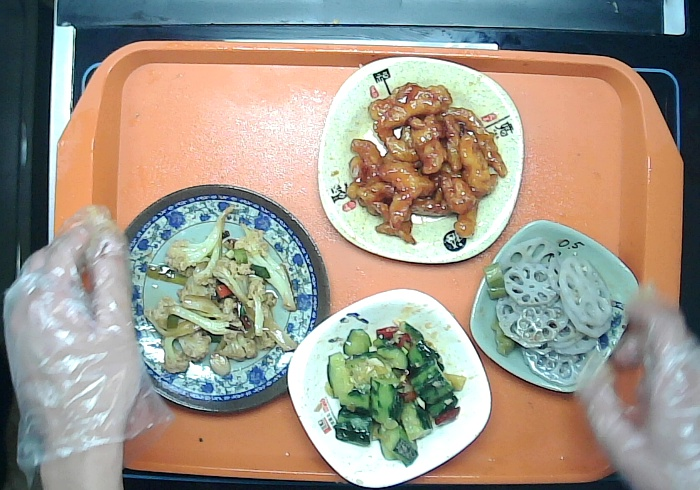NLDX-Bai_Se_Xiao_Fang_Die: (288, 288, 493, 487)
NLDX-Fu_Zi_Fang_Die: (319, 56, 522, 263)
NLDX-Qing_Hua_Xiao_Fang_Die: (471, 218, 638, 393)
NLDX-Qing_Hua_Yuan_Die: (125, 186, 331, 413)
